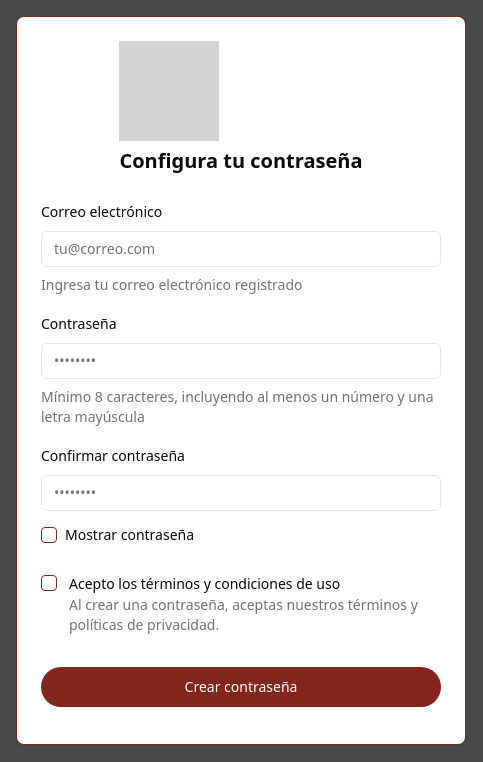
Scenario: SetupPasswordForm Component › validates form inputs correctly
This screenshot has width=483, height=762.
Click the button "Crear contraseña".
click(241, 686)  # box [41, 666, 441, 706]
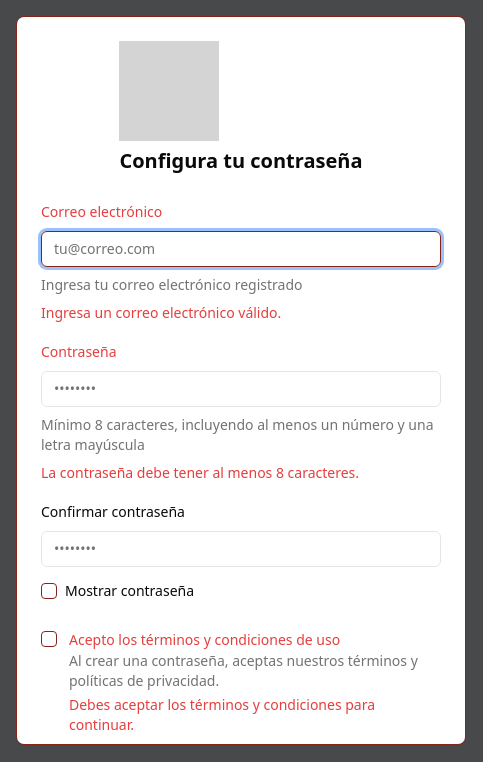
Now the text "Ingresa un correo electrónico válido." is shown, box [41, 302, 281, 322]
Now the text "La contraseña debe tener al menos 8 caracteres." is shown, box [41, 462, 359, 482]
Now the text "Debes aceptar los términos y condiciones para continuar." is shown, box [69, 694, 375, 734]
